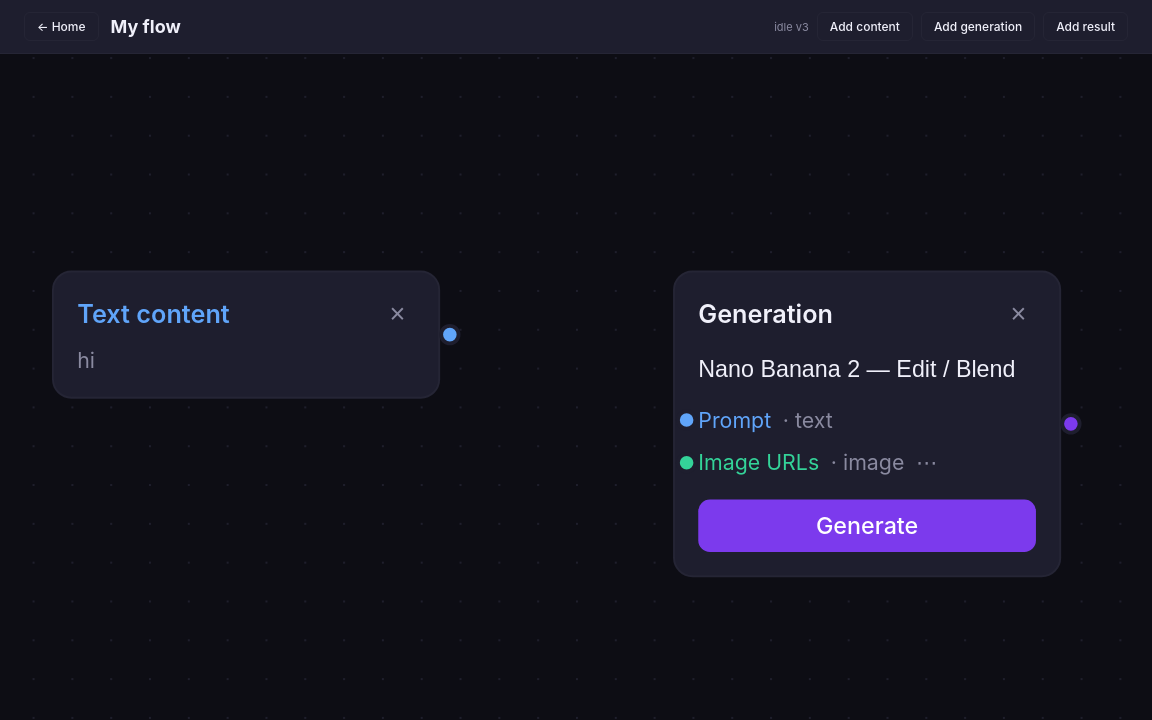
FlowEditorPage › closes the Inspector when the empty canvas pane is clicked
Expected: the element that starts with "Generation" is shown, [673,271,1061,577]
What coordinates should you click on to do the following:
click the button "Nano Banana 2 — Edit / Blend"
I would click on:
 (867, 370)
Its box is [698,356,1036,383].
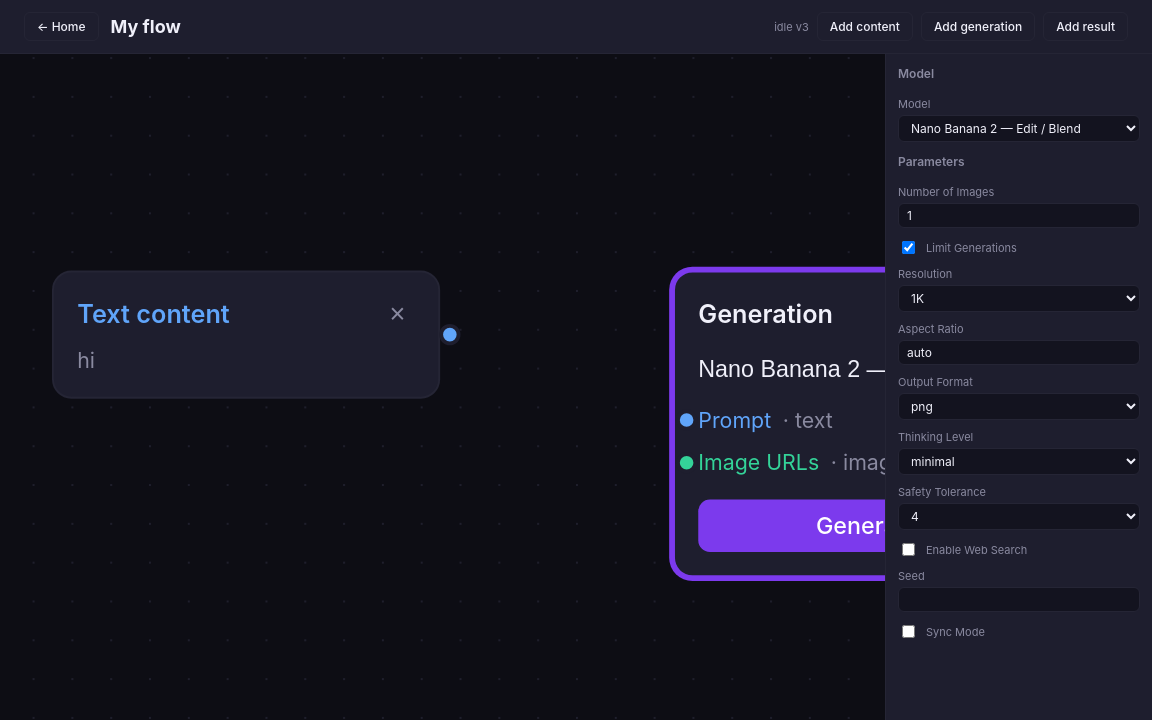
Expected: the element with test id "inspector-panel" is shown, [885,54,1151,719]
# Click the empty pane → selection cleared → Inspector gone.
What coordinates should you click on to do the following:
click the element with class "react-flow__pane"
I would click on:
 (557, 424)
Its box is [52,271,1061,577].
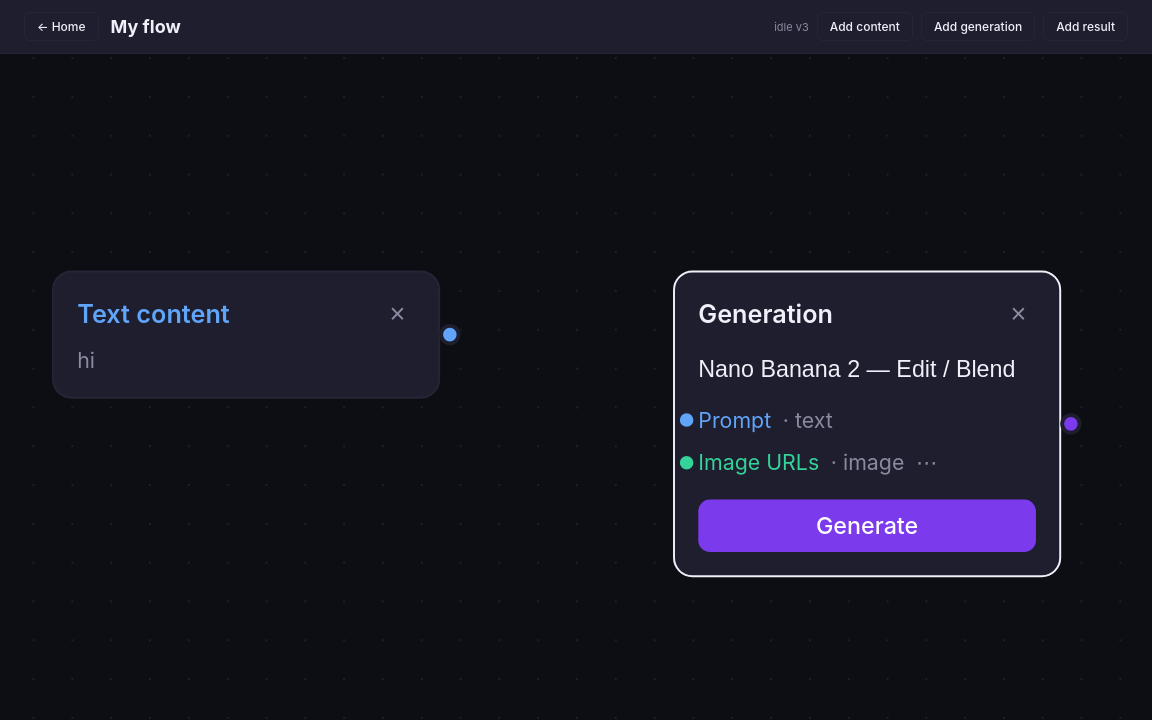
Expected: the element with test id "inspector-panel" is gone
